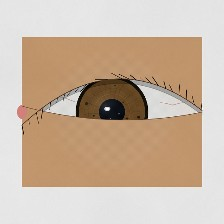pinguecula_lesion: (16, 99, 64, 137)
